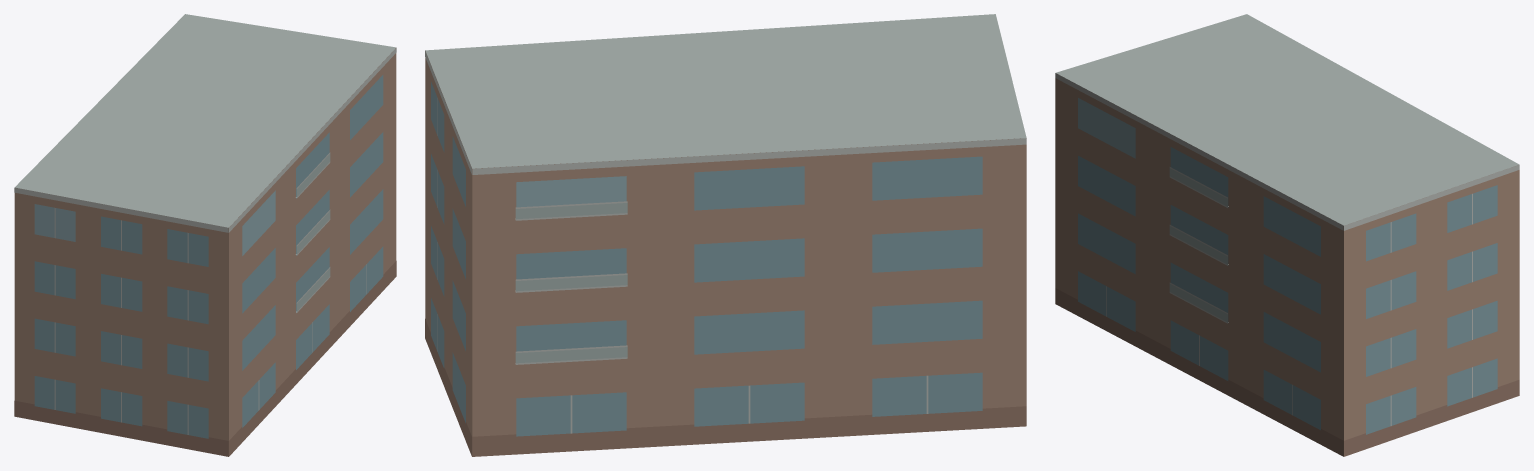
The model's file is survey-upis-32790465.glb.
The picture shows the model from 3 angles, left to right: view 1: azimuth 30°, elevation 25°; view 2: azimuth 150°, elevation 25°; view 3: azimuth 270°, elevation 25°; orthographic projection. The views are drawn at different scales.
Visible parts, largest first — view 1: survey-upis-32790465.tmp; view 2: survey-upis-32790465.tmp; view 3: survey-upis-32790465.tmp.
Boxes of the visible parts, x1,y1,x2,y2 form: survey-upis-32790465.tmp: [14, 14, 396, 456]; survey-upis-32790465.tmp: [425, 14, 1026, 456]; survey-upis-32790465.tmp: [1055, 14, 1519, 456].
Bounding box in the file's own units: 21.22 × 10.8 × 19.66.
